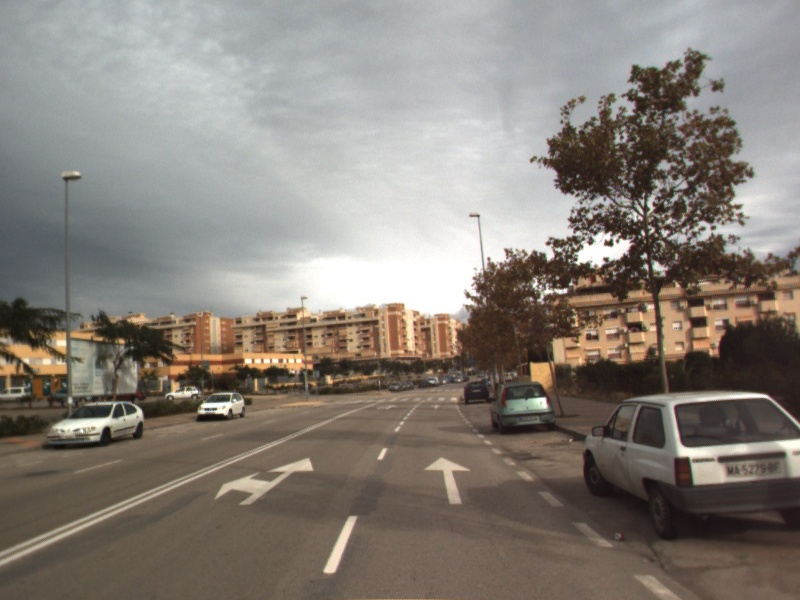STRAIGHT: (421, 454, 473, 506)
STRAIGHT_LEFT: (212, 455, 316, 507)
